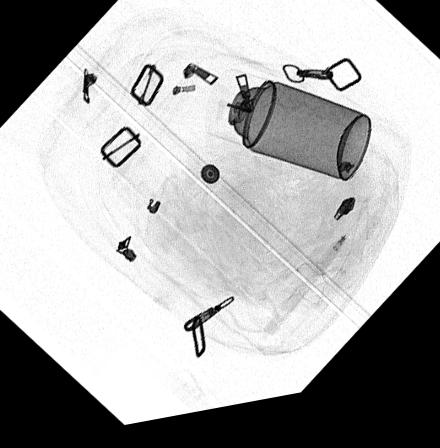Sprayer: (204, 76, 372, 193)
